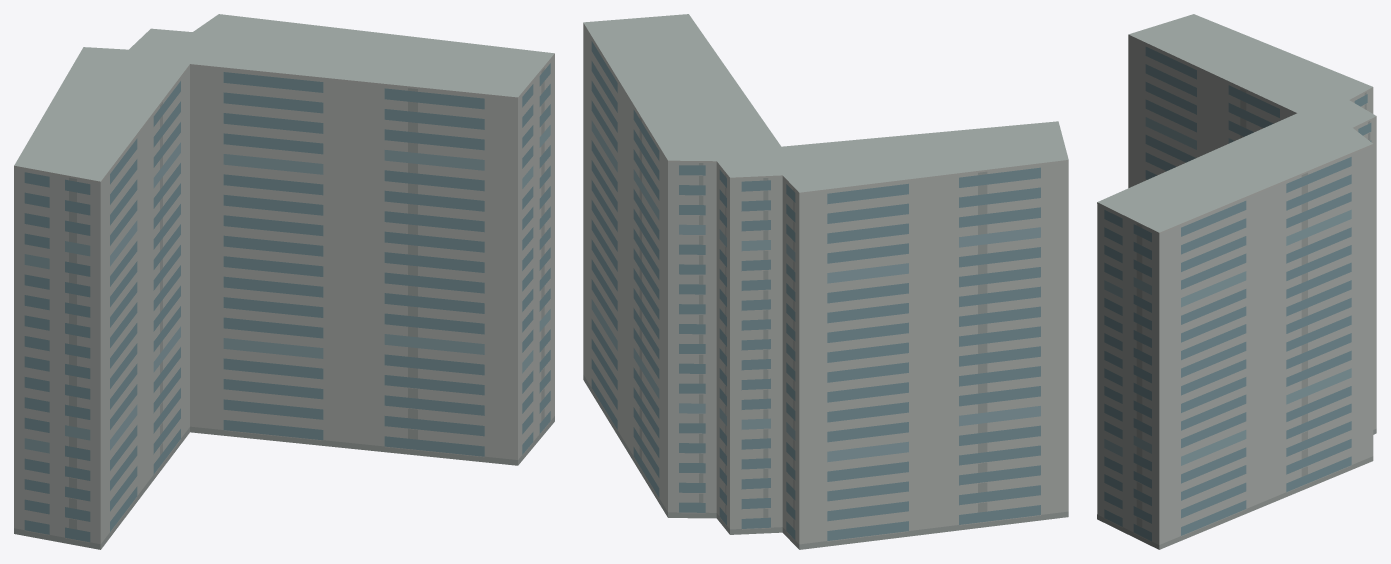
Rendered from residential-c555c109-adb9-4367-82ec-9982e2044b8c.glb.
3 views of the same model, side by side, from view 1: azimuth 30°, elevation 25°; view 2: azimuth 150°, elevation 25°; view 3: azimuth 270°, elevation 25° (orthographic). The views are drawn at different scales.
Parts seen in each view (by area): view 1: residential-c555c109-adb9-4367-82ec-9982e2044b8c.tmp; view 2: residential-c555c109-adb9-4367-82ec-9982e2044b8c.tmp; view 3: residential-c555c109-adb9-4367-82ec-9982e2044b8c.tmp.
Boxes of the visible parts, x1=… form: residential-c555c109-adb9-4367-82ec-9982e2044b8c.tmp: x1=14, y1=14, x2=554, y2=549; residential-c555c109-adb9-4367-82ec-9982e2044b8c.tmp: x1=583, y1=14, x2=1068, y2=549; residential-c555c109-adb9-4367-82ec-9982e2044b8c.tmp: x1=1097, y1=14, x2=1376, y2=549.
Size of the model in its own units: 71.02 by 48 by 38.36.
